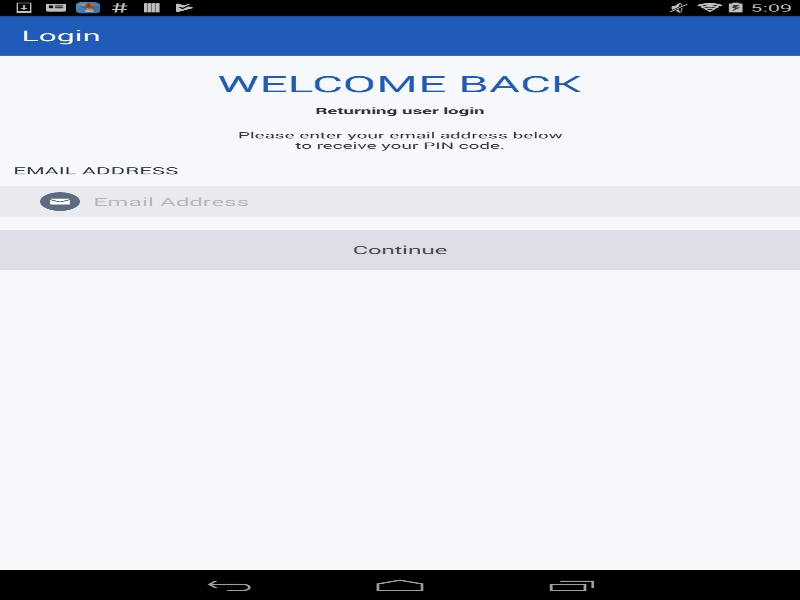Input: (93, 185, 786, 217)
